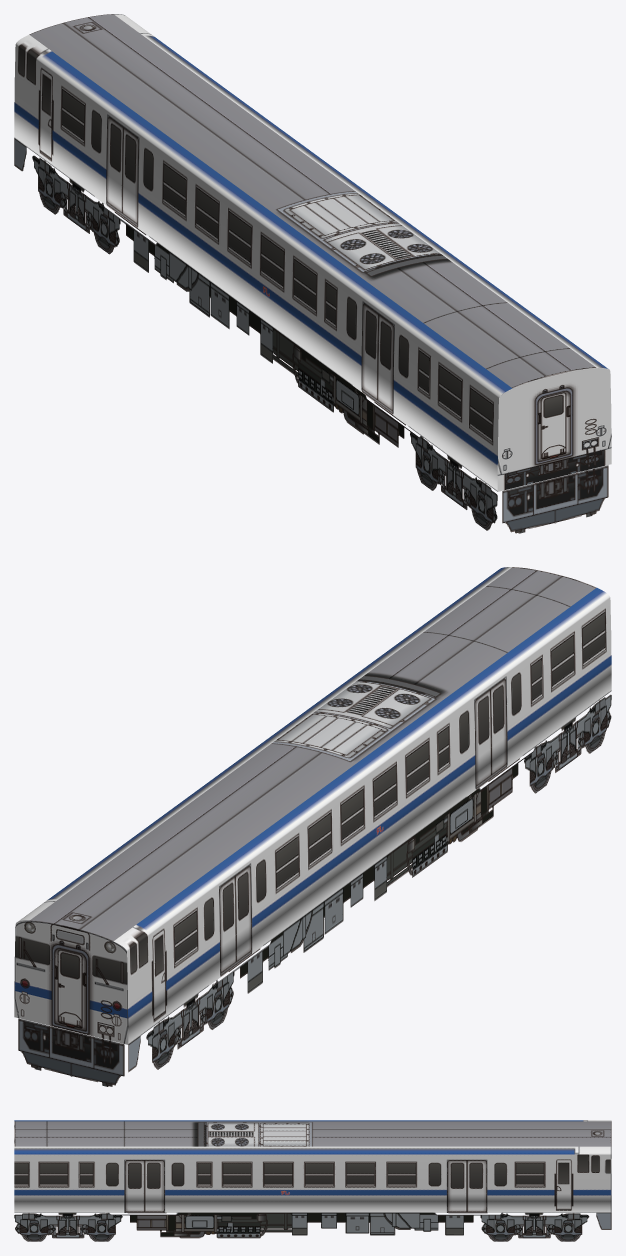
Rendered from car2.glb.
3 views of the same model, one above another, from view 1: azimuth 30°, elevation 25°; view 2: azimuth 150°, elevation 25°; view 3: azimuth 270°, elevation 25° (orthographic). The views are drawn at different scales.
Parts seen in each view (by area): view 1: car2; view 2: car2; view 3: car2.
Part boxes in pixels (bbox=[...]): car2: bbox=[14, 14, 611, 533]; car2: bbox=[14, 567, 611, 1086]; car2: bbox=[14, 1120, 611, 1241].
Size of the model in its own units: 2.9 by 3.65 by 21.33.
Materials: 9 (8 with a texture image).
